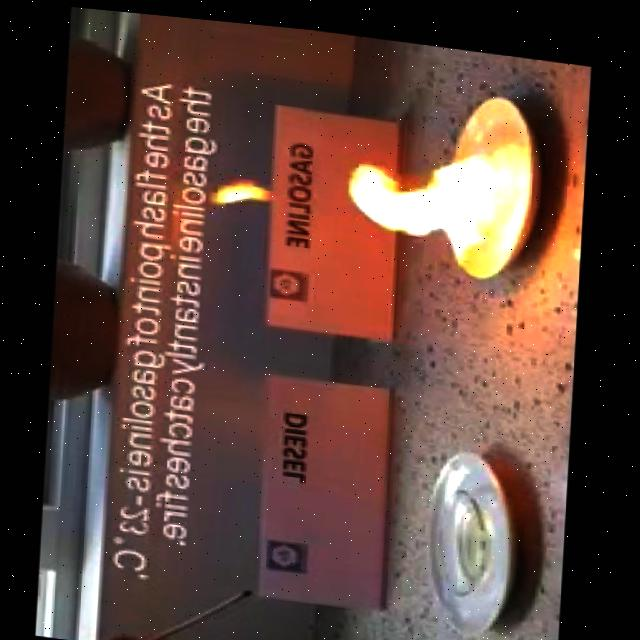Fire: (341, 108, 520, 245), (205, 163, 277, 215)
